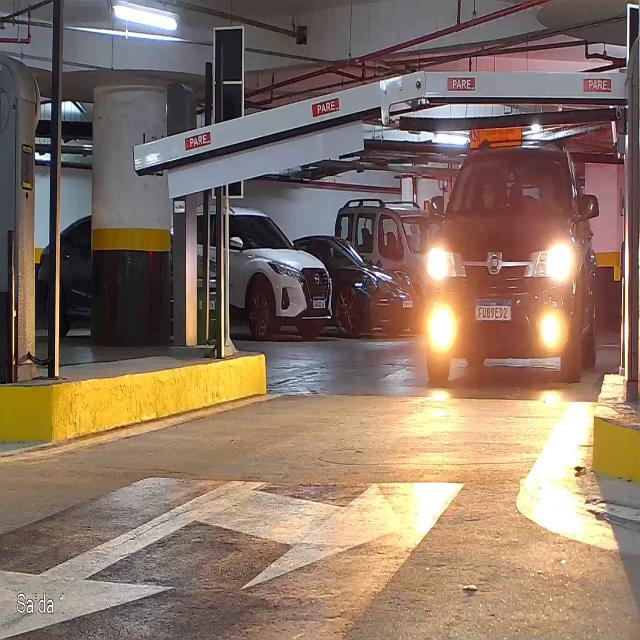mercosul_plate: (473, 298, 514, 322)
